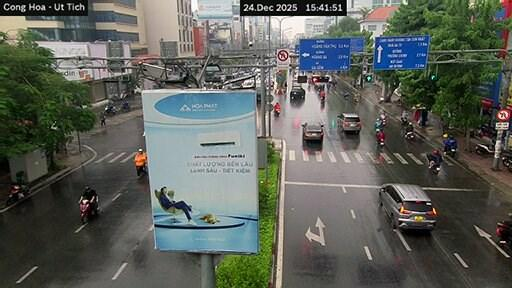motorbike: (79, 196, 97, 223), (6, 184, 29, 205), (496, 221, 511, 245), (475, 141, 494, 154), (429, 160, 440, 174), (136, 164, 146, 177), (501, 154, 511, 166), (445, 147, 456, 157), (105, 103, 115, 114), (121, 100, 130, 111), (405, 131, 414, 140), (377, 139, 384, 148), (401, 117, 407, 126), (320, 95, 325, 102), (274, 108, 279, 115), (344, 92, 349, 99)
